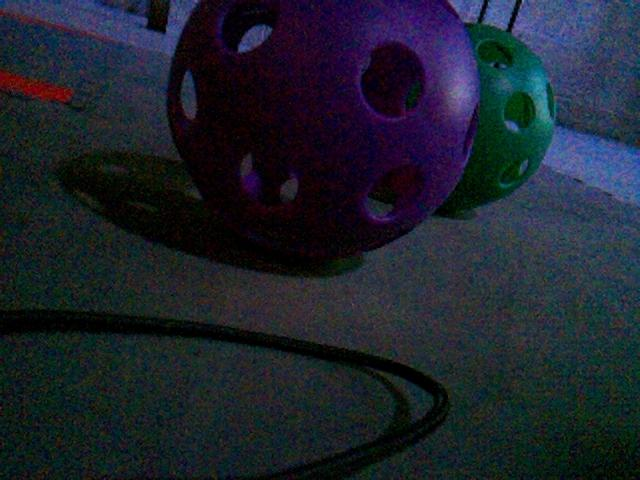Green: (434, 22, 558, 216)
Purple: (168, 2, 484, 262)
